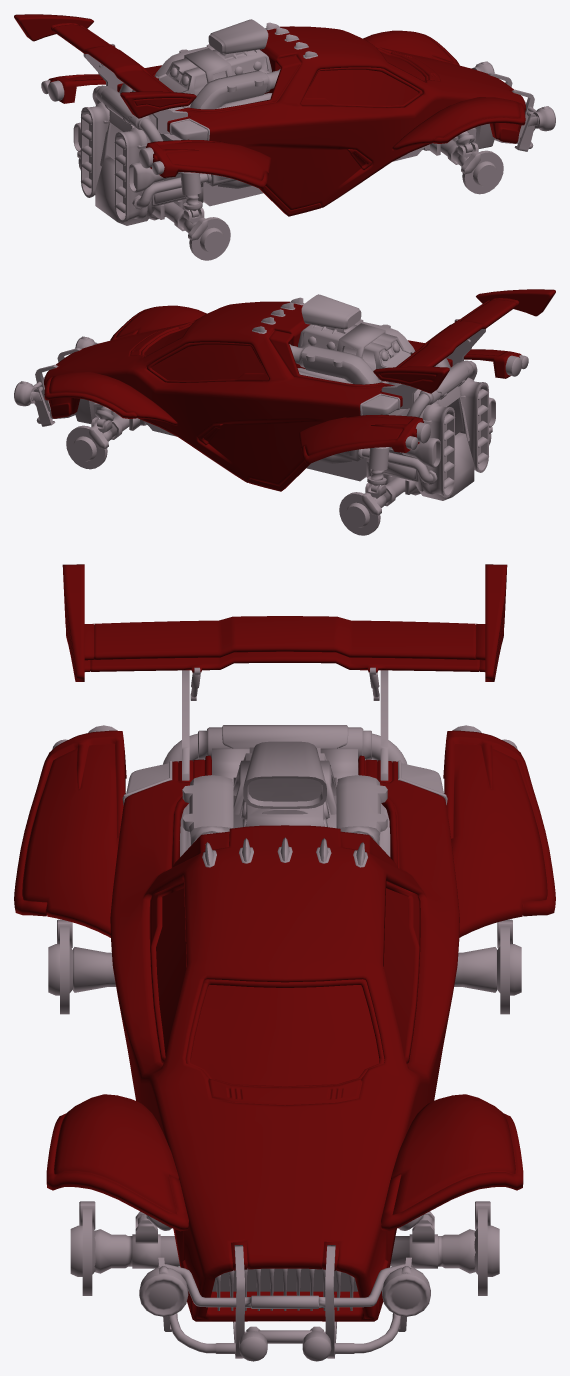
Rendered from Rocket_League_Octane_Body_Octane_PremiumSkin_SK.FBX.
3 renders of one model, top to bottom at view 1: azimuth 30°, elevation 25°; view 2: azimuth 150°, elevation 25°; view 3: azimuth 270°, elevation 25°, orthographic. The views are drawn at different scales.
Parts seen in each view (by area): view 1: Rocket_League_Octane_Body_Octane_PremiumSkin_SK; view 2: Rocket_League_Octane_Body_Octane_PremiumSkin_SK; view 3: Rocket_League_Octane_Body_Octane_PremiumSkin_SK.
Boxes of the visible parts, <box> form: Rocket_League_Octane_Body_Octane_PremiumSkin_SK: <box>14,14,555,260</box>; Rocket_League_Octane_Body_Octane_PremiumSkin_SK: <box>14,289,555,535</box>; Rocket_League_Octane_Body_Octane_PremiumSkin_SK: <box>14,564,555,1361</box>.
Size of the model in its own units: 140 by 72.47 by 55.45.
